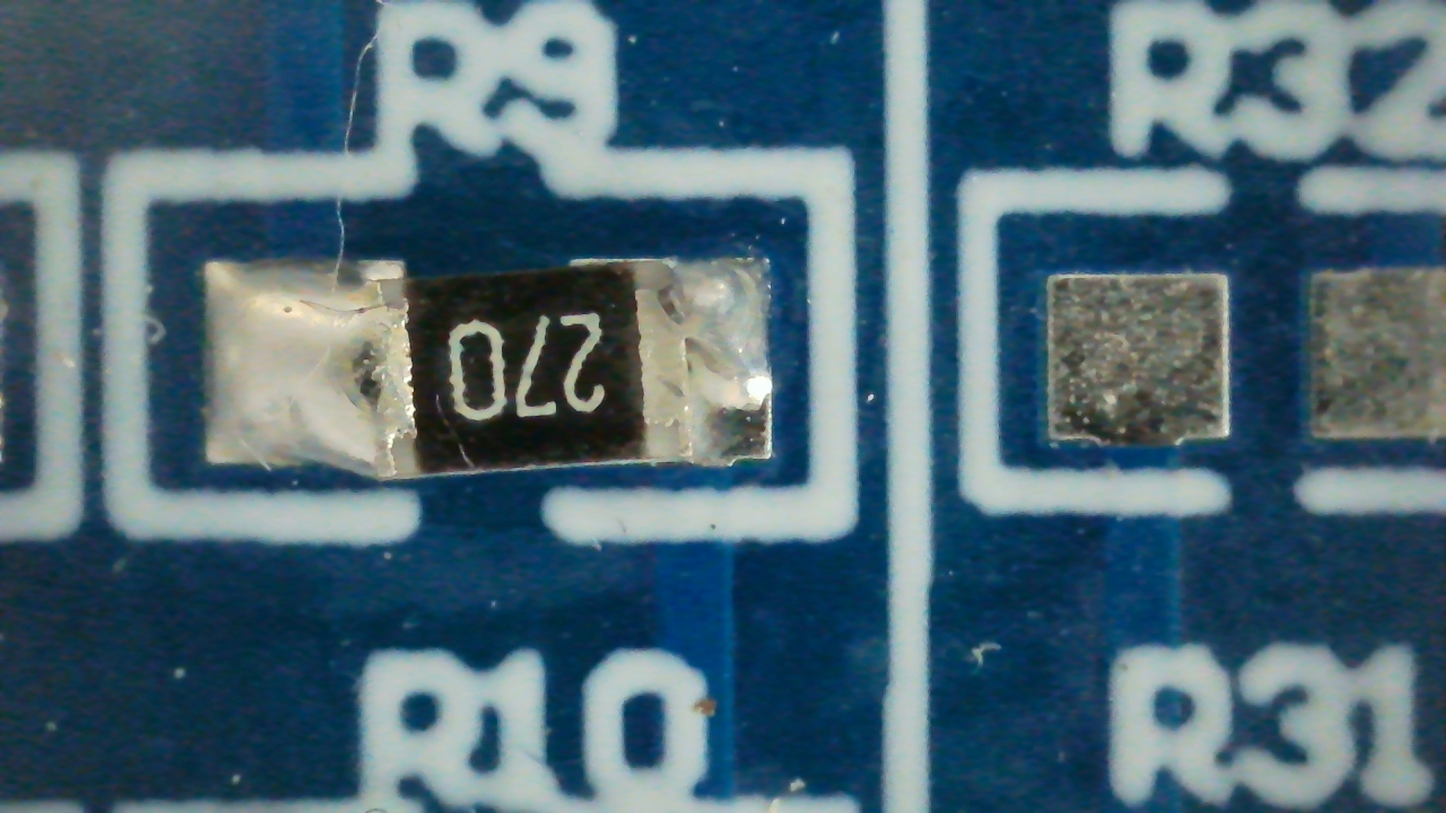NG: (207, 258, 771, 481)
